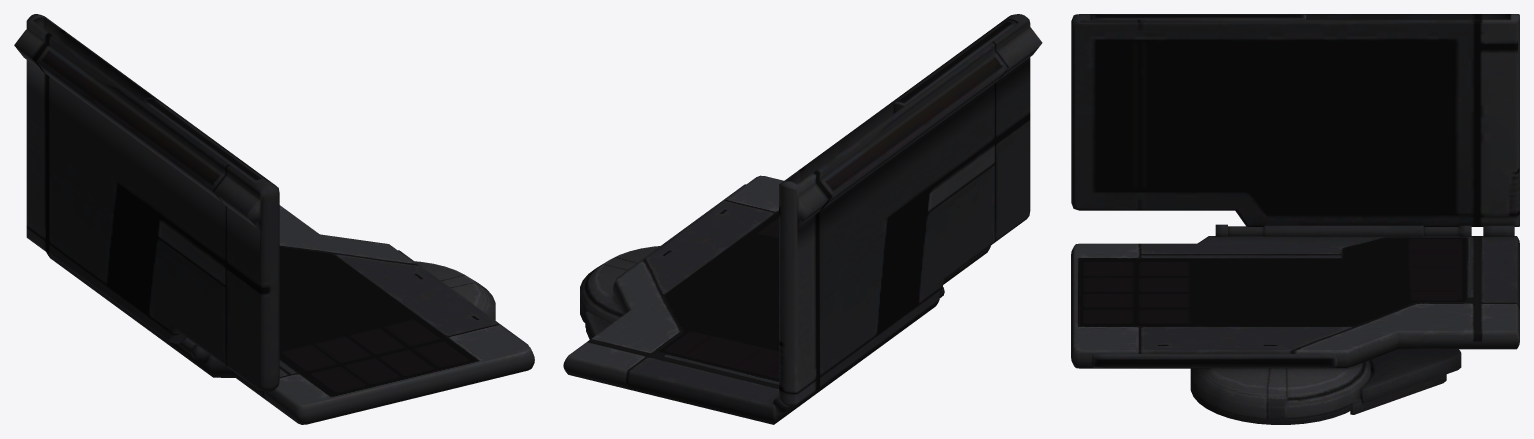
The model's file is GUI_Level_Terminal02.FBX.
3 renders of one model, left to right at view 1: azimuth 30°, elevation 25°; view 2: azimuth 150°, elevation 25°; view 3: azimuth 270°, elevation 25°, orthographic. The views are drawn at different scales.
Visible parts, largest first — view 1: GUI_Level_Terminal02; view 2: GUI_Level_Terminal02; view 3: GUI_Level_Terminal02.
Part boxes in pixels (x1=…): GUI_Level_Terminal02: x1=14, y1=14, x2=534, y2=424; GUI_Level_Terminal02: x1=563, y1=14, x2=1042, y2=424; GUI_Level_Terminal02: x1=1071, y1=14, x2=1519, y2=424.
Bounding box in the file's own units: 0.399 × 0.3132 × 0.478.
